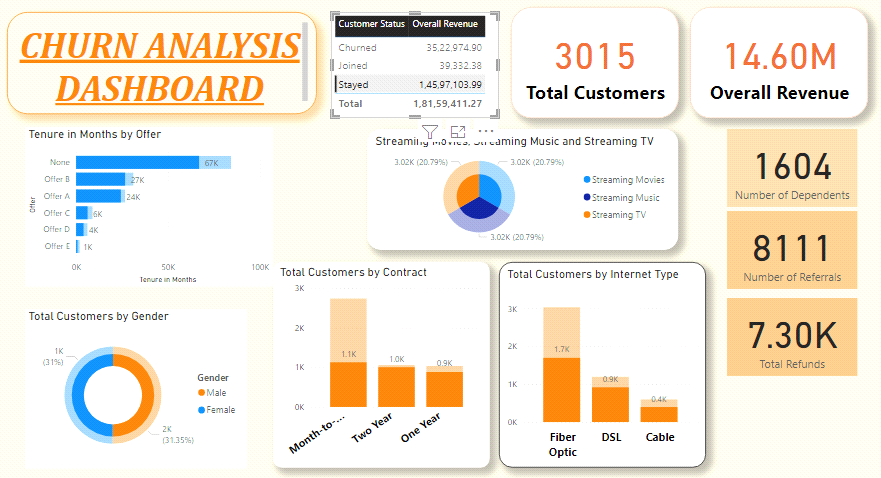

What the dashboard file says about the page in this screenshot:
{"tool":"powerbi","page":{"name":"Page 1","canvas":[1280,720],"ordinal":0},"visuals":[{"type":"card","fields":{"Values":["telecom_customer_churnproj.Overall Revenue"]},"box":[1000.8,19.1,258.4,161.3],"z":0},{"type":"card","fields":{"Values":["telecom_customer_churnproj.Total Customers"]},"box":[740.6,19.1,242.8,161.3],"z":4000},{"type":"columnChart","fields":{"Category":["telecom_customer_churnproj.Contract"],"Y":["telecom_customer_churnproj.Total Customers"]},"box":[395.4,388.5,313.9,298.3],"z":4001},{"type":"columnChart","fields":{"Y":["telecom_customer_churnproj.Total Customers"],"Category":["telecom_customer_churnproj.Internet Type"]},"box":[723.3,388.5,300.1,298.3],"z":4002},{"type":"tableEx","fields":{"Values":["telecom_customer_churnproj.Customer Status","telecom_customer_churnproj.Overall Revenue"]},"box":[480.4,26,242.8,154.4],"z":4003},{"type":"donutChart","fields":{"Category":["telecom_customer_churnproj.Gender"],"Y":["telecom_customer_churnproj.Total Customers"]},"box":[36.4,456.2,320.9,230.7],"z":4004},{"type":"barChart","fields":{"Category":["telecom_customer_churnproj.Offer"],"Y":["Sum(telecom_customer_churnproj.Tenure in Months)"]},"box":[36.4,192.5,359,230.7],"z":4005},{"type":"pieChart","fields":{"Y":["CountNonNull(telecom_customer_churnproj.Streaming Movies)","CountNonNull(telecom_customer_churnproj.Streaming Music)","CountNonNull(telecom_customer_churnproj.Streaming TV)"]},"box":[532.5,196,450.9,175.2],"z":4006},{"type":"card","fields":{"Values":["Sum(telecom_customer_churnproj.Number of Dependents)"]},"box":[1054.5,196,189.1,112.7],"z":4007},{"type":"card","fields":{"Values":["Sum(telecom_customer_churnproj.Number of Referrals)"]},"box":[1054.5,313.9,189.1,112.7],"z":4008},{"type":"card","fields":{"Values":["Sum(telecom_customer_churnproj.Total Refunds)"]},"box":[1054.5,440.5,189.1,112.7],"z":4009},{"type":"textbox","box":[10.2,26.2,448.5,148],"z":4010}]}

Visuals, with their boxes on the page's 1280x720 design canvas (x1, y1, x2, y2). These are canvas units, not pixel positions in the 881x478 screenshot, which may show the page scaled, cropped or inside an application window:
card - telecom_customer_churnproj.Overall Revenue: {"x1": 1001, "y1": 19, "x2": 1259, "y2": 180}
card - telecom_customer_churnproj.Total Customers: {"x1": 741, "y1": 19, "x2": 983, "y2": 180}
columnChart - telecom_customer_churnproj.Contract x telecom_customer_churnproj.Total Customers: {"x1": 395, "y1": 388, "x2": 709, "y2": 687}
columnChart - telecom_customer_churnproj.Total Customers x telecom_customer_churnproj.Internet Type: {"x1": 723, "y1": 388, "x2": 1023, "y2": 687}
tableEx - telecom_customer_churnproj.Customer Status x telecom_customer_churnproj.Overall Revenue: {"x1": 480, "y1": 26, "x2": 723, "y2": 180}
donutChart - telecom_customer_churnproj.Gender x telecom_customer_churnproj.Total Customers: {"x1": 36, "y1": 456, "x2": 357, "y2": 687}
barChart - telecom_customer_churnproj.Offer x Sum(telecom_customer_churnproj.Tenure in Months): {"x1": 36, "y1": 192, "x2": 395, "y2": 423}
pieChart - CountNonNull(telecom_customer_churnproj.Streaming Movies) x CountNonNull(telecom_customer_churnproj.Streaming Music): {"x1": 532, "y1": 196, "x2": 983, "y2": 371}
card - Sum(telecom_customer_churnproj.Number of Dependents): {"x1": 1054, "y1": 196, "x2": 1244, "y2": 309}
card - Sum(telecom_customer_churnproj.Number of Referrals): {"x1": 1054, "y1": 314, "x2": 1244, "y2": 427}
card - Sum(telecom_customer_churnproj.Total Refunds): {"x1": 1054, "y1": 440, "x2": 1244, "y2": 553}
textbox: {"x1": 10, "y1": 26, "x2": 459, "y2": 174}
